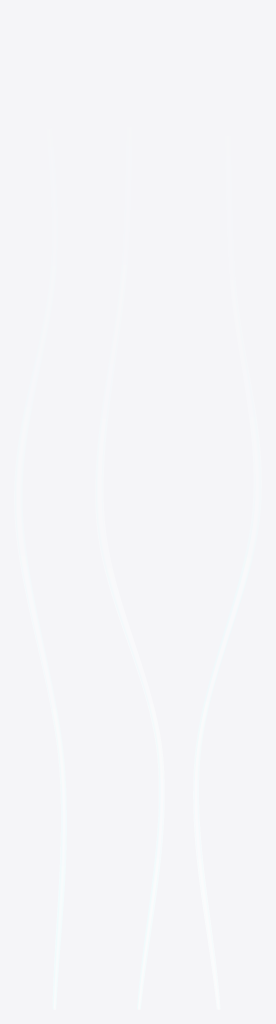
The model's file is strand_b_supply.glb.
3 renders of one model, left to right at view 1: azimuth 90°, elevation 25°; view 2: azimuth 150°, elevation 25°; view 3: azimuth 330°, elevation 25°, orthographic.
Bounding box in the file's own units: 0.3342 × 7 × 0.3373.
